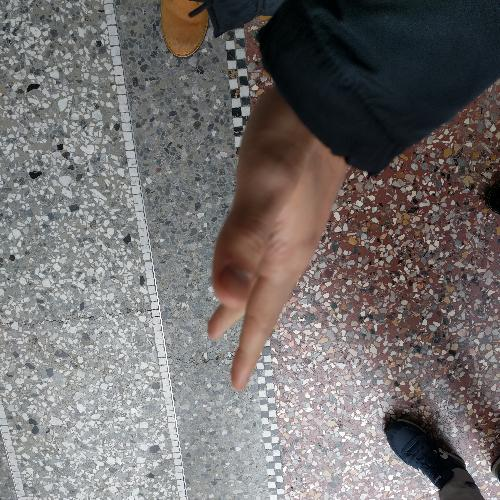scissors: (202, 72, 354, 394)
